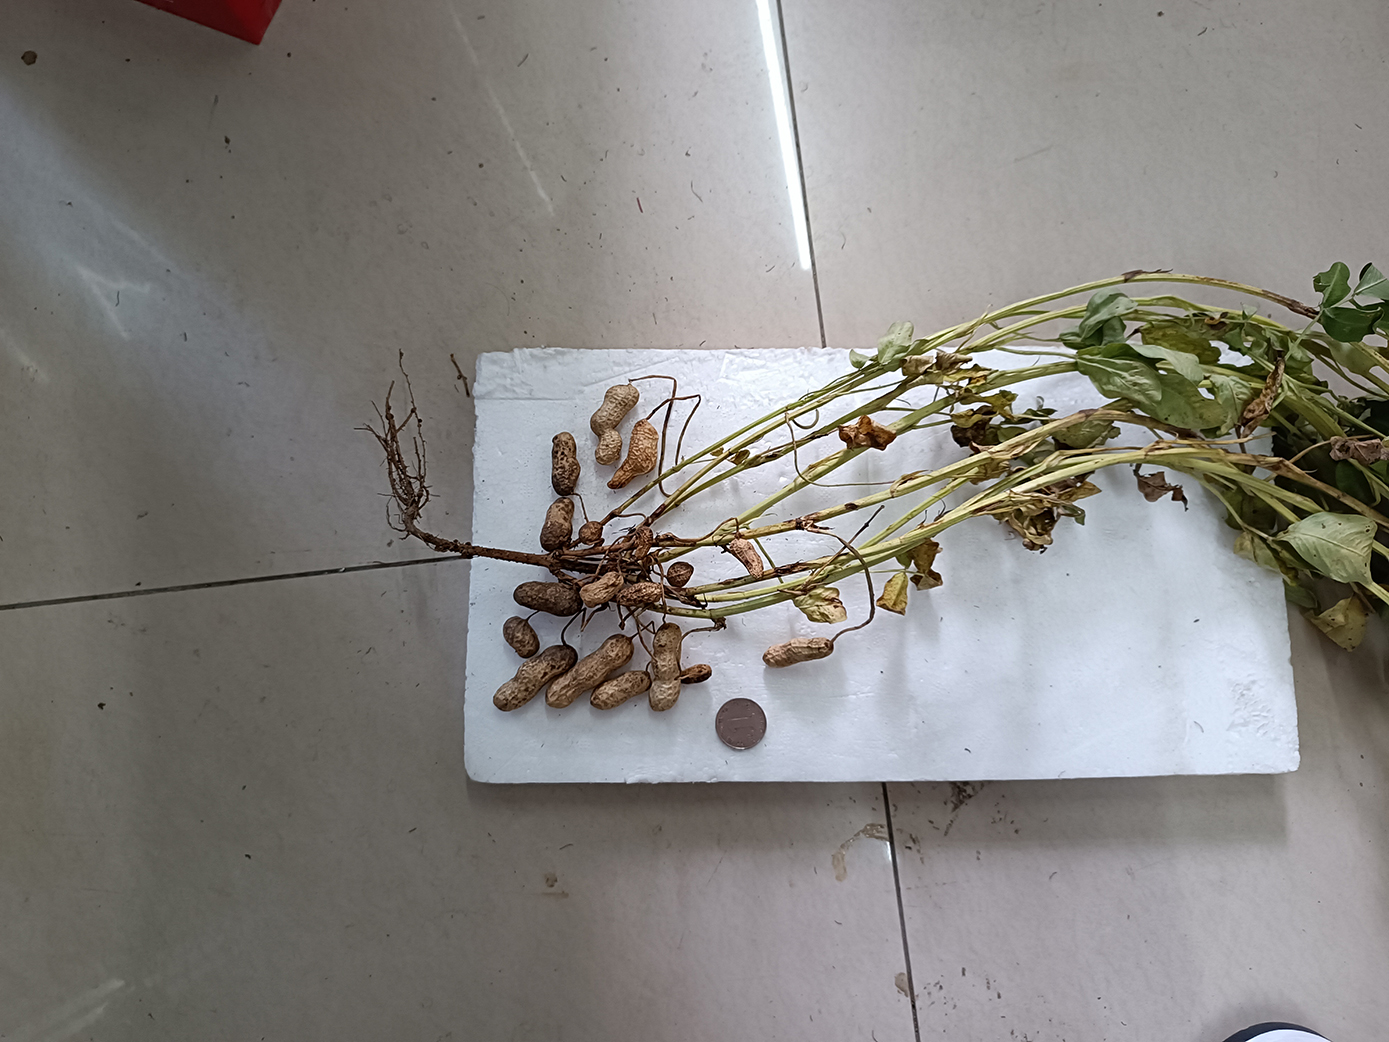h: (542, 634, 633, 708), (491, 645, 578, 711), (589, 383, 639, 465), (606, 421, 658, 491), (648, 624, 684, 713), (589, 672, 652, 709), (762, 637, 835, 668), (540, 498, 575, 554), (549, 431, 579, 494), (578, 571, 624, 606), (730, 537, 764, 580), (616, 583, 661, 607), (668, 560, 696, 588), (681, 664, 711, 685), (579, 521, 604, 544), (636, 526, 652, 561)
l: (513, 581, 581, 618), (503, 617, 540, 659)
